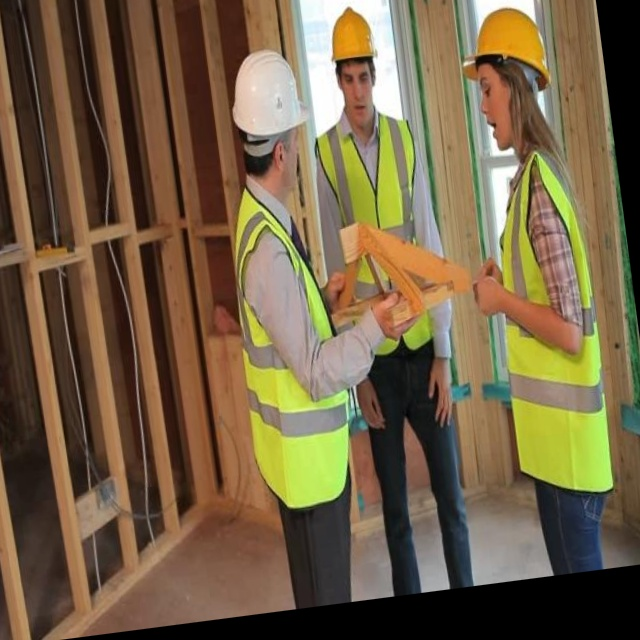Con_Casco: (327, 5, 381, 103)
Sin_Chaleco: (481, 145, 620, 511), (225, 174, 358, 515), (313, 114, 450, 383)
